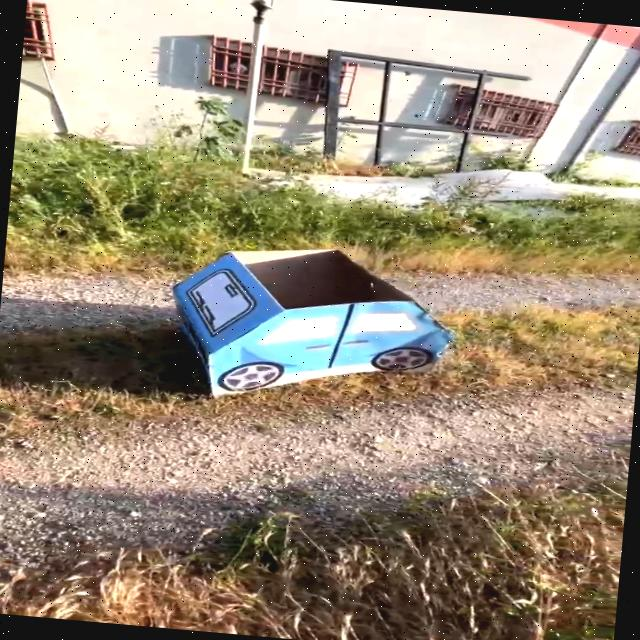blue_car: (124, 176, 500, 449)
